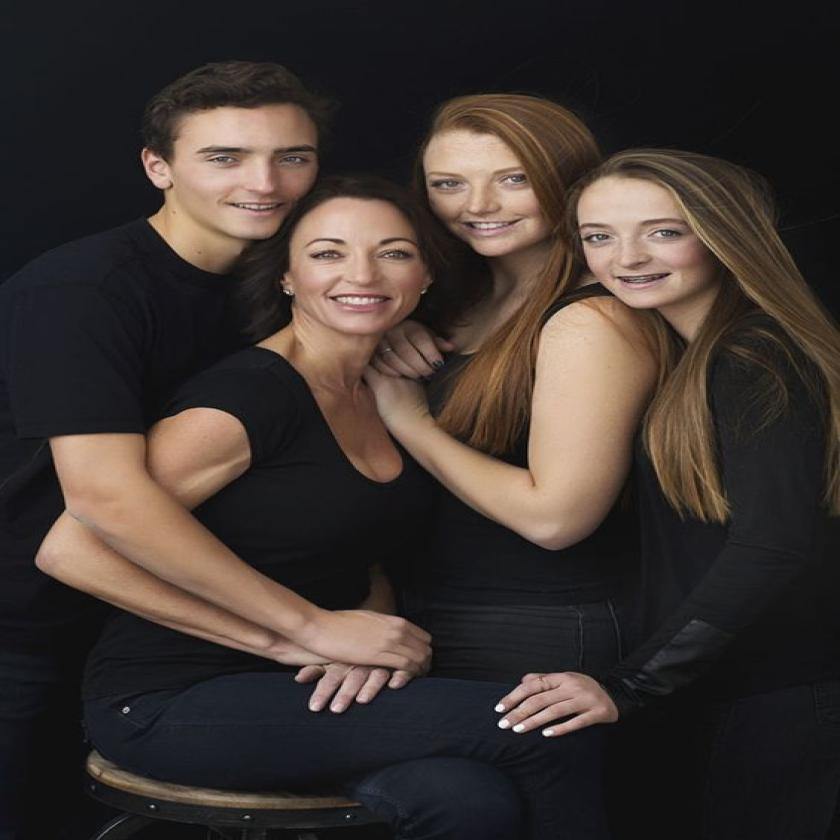Sin_casco: (145, 52, 335, 253), (417, 93, 607, 264), (570, 148, 739, 331), (283, 181, 441, 353)
